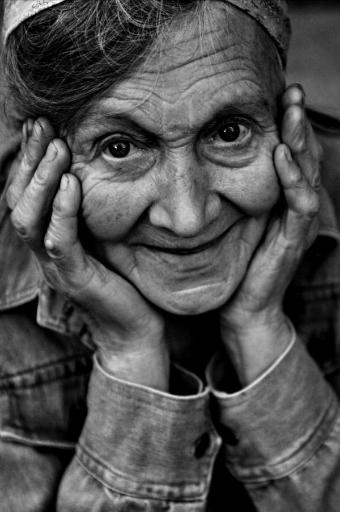left_eye: (204, 118, 259, 153)
left_lip_corner: (242, 207, 259, 229)
right_eye: (96, 135, 155, 169)
right_lip_corner: (134, 239, 158, 260)
